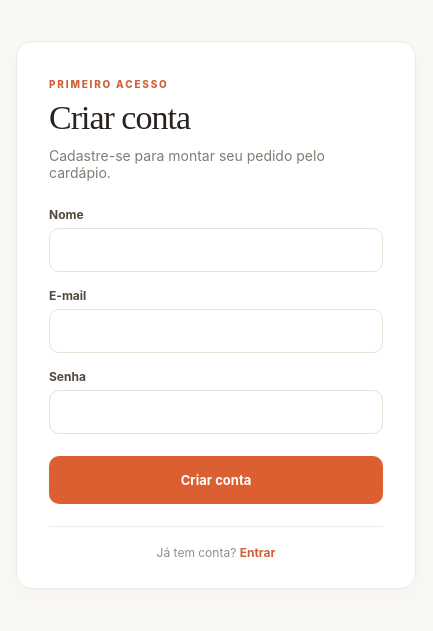
Scenario: Cadastro › e-mail vazio bloqueia o envio
Type "Karolina" into the field labelled "Nome" at (216, 250), box [49,228,383,272]
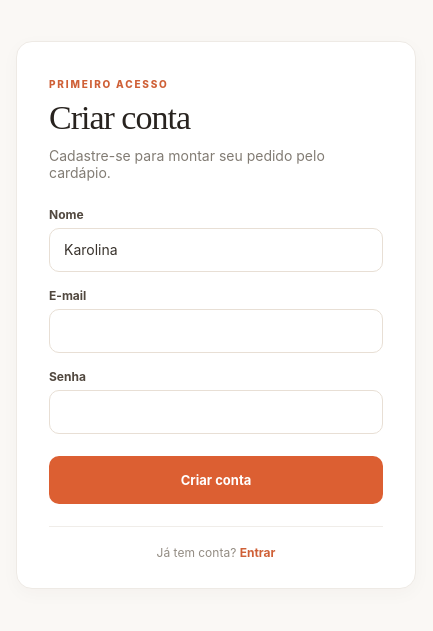
Type "123456" into the password field labelled "Senha" at (216, 412), box [49,390,383,434]
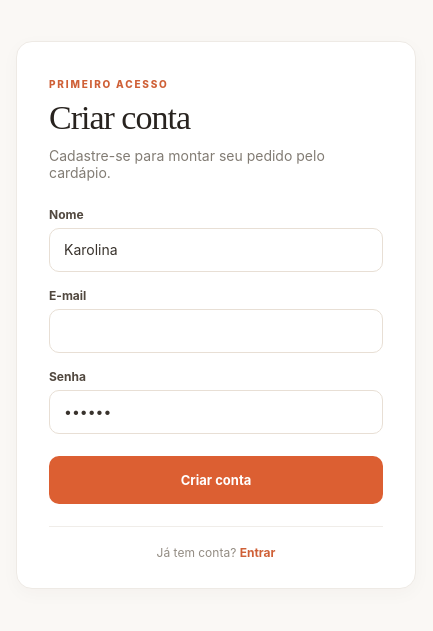
Click the button "Criar conta" at (216, 480), box [49,456,383,504]
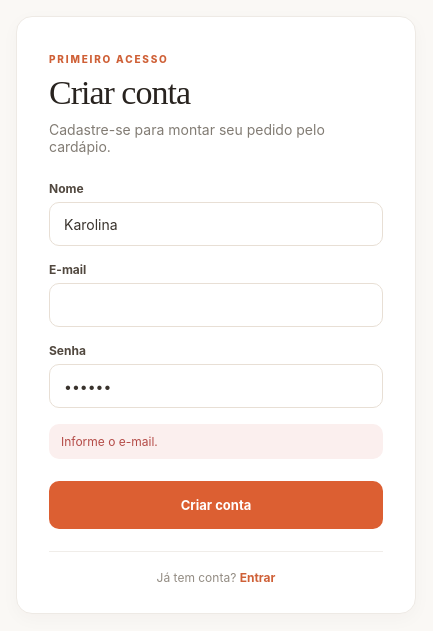
Expected: the message reads "Informe o e-mail.", [61,434,158,449]
